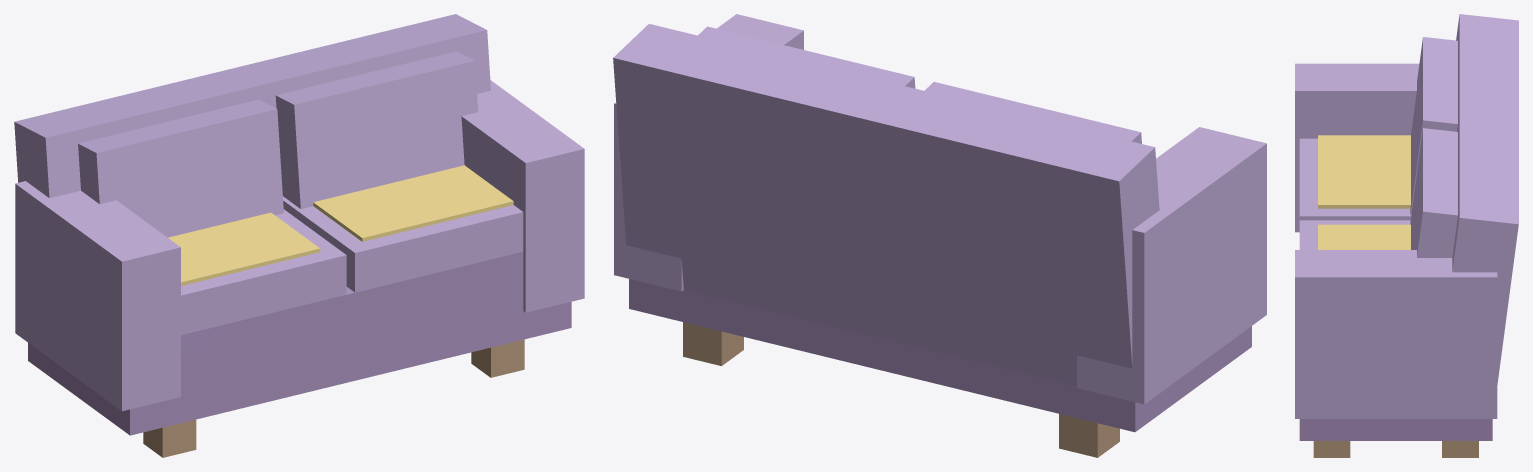
Rendered from home-starter-sofa-pixel-16bit-3d.glb.
3 views of the same model, side by side, from view 1: azimuth 30°, elevation 25°; view 2: azimuth 150°, elevation 25°; view 3: azimuth 270°, elevation 25° (orthographic). The views are drawn at different scales.
Visible parts, largest first — view 1: frame-base, arm-left, back-right, back, back-left, arm-right, seat-right, seat-left, stitch-right, stitch-left, leg-a, leg-b; view 2: back, arm-left, frame-base, arm-right, back-left, back-right, leg-c, leg-d; view 3: arm-right, back, arm-left, stitch-left, back-right, back-left, frame-base, seat-left, stitch-right, seat-right, leg-b, leg-d.
Boxes of the visible parts, bbox=[...] form: frame-base: bbox=[28, 252, 571, 435]; arm-left: bbox=[15, 181, 180, 411]; back-right: bbox=[275, 51, 478, 208]; back: bbox=[14, 14, 490, 198]; back-left: bbox=[78, 99, 283, 237]; arm-right: bbox=[461, 80, 584, 312]; seat-right: bbox=[283, 196, 523, 292]; seat-left: bbox=[181, 209, 346, 357]; stitch-right: bbox=[313, 165, 513, 241]; stitch-left: bbox=[168, 212, 320, 285]; leg-a: bbox=[143, 419, 196, 457]; leg-b: bbox=[471, 339, 524, 377]; back: bbox=[613, 24, 1159, 386]; arm-left: bbox=[1077, 127, 1266, 404]; frame-base: bbox=[629, 279, 1251, 432]; arm-right: bbox=[614, 14, 803, 291]; back-left: bbox=[924, 82, 1141, 143]; back-right: bbox=[698, 26, 915, 88]; leg-c: bbox=[1059, 414, 1119, 457]; leg-d: bbox=[683, 322, 743, 365]; arm-right: bbox=[1295, 250, 1497, 418]; back: bbox=[1452, 14, 1518, 384]; arm-left: bbox=[1295, 63, 1419, 232]; stitch-left: bbox=[1318, 135, 1410, 208]; back-right: bbox=[1410, 128, 1457, 257]; back-left: bbox=[1410, 37, 1457, 214]; frame-base: bbox=[1299, 419, 1492, 440]; seat-left: bbox=[1299, 138, 1411, 220]; stitch-right: bbox=[1318, 224, 1410, 249]; seat-right: bbox=[1299, 220, 1410, 249]; leg-b: bbox=[1313, 441, 1350, 457]; leg-d: bbox=[1442, 441, 1478, 457].
Bounding box in the file's own units: 2.2 × 1.24 × 0.9741.
